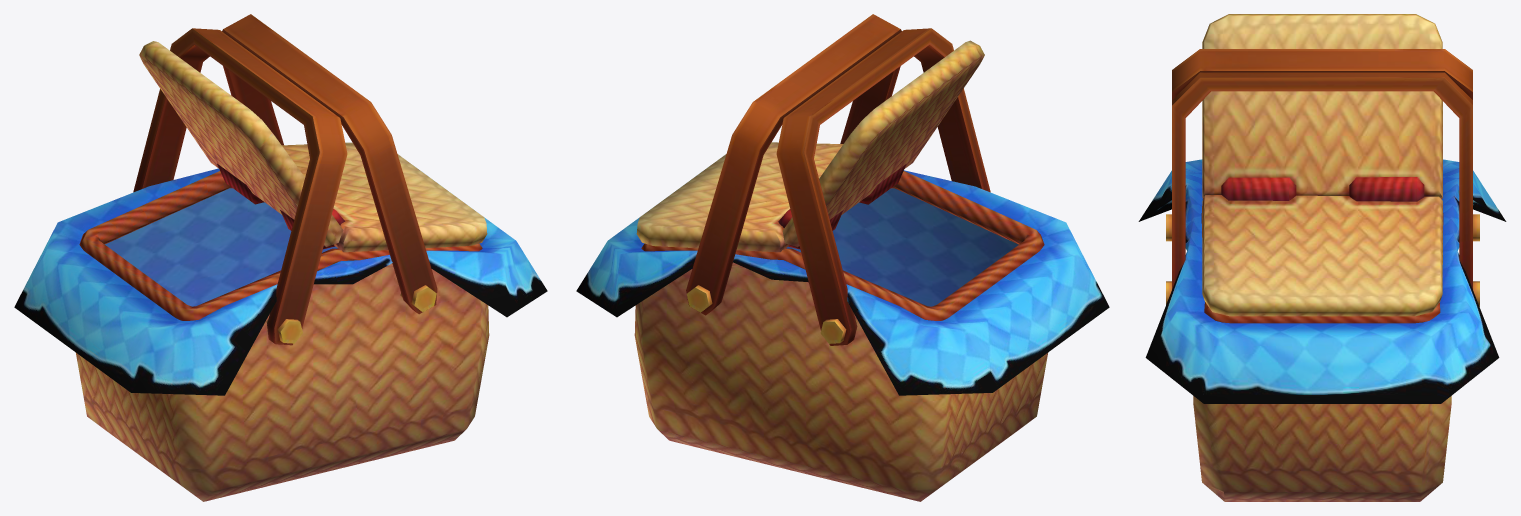
The model's file is SE_Basket_04_SM.FBX.
3 renders of one model, left to right at view 1: azimuth 30°, elevation 25°; view 2: azimuth 150°, elevation 25°; view 3: azimuth 270°, elevation 25°, orthographic.
Parts seen in each view (by area): view 1: SE_Basket_04_SM_LOD0; view 2: SE_Basket_04_SM_LOD0; view 3: SE_Basket_04_SM_LOD0.
Part boxes in pixels (bbox=[...]): SE_Basket_04_SM_LOD0: bbox=[14, 14, 547, 501]; SE_Basket_04_SM_LOD0: bbox=[576, 14, 1109, 501]; SE_Basket_04_SM_LOD0: bbox=[1138, 14, 1506, 501].
Size of what is drawn, in the model's own units: 273 by 206 by 238.
